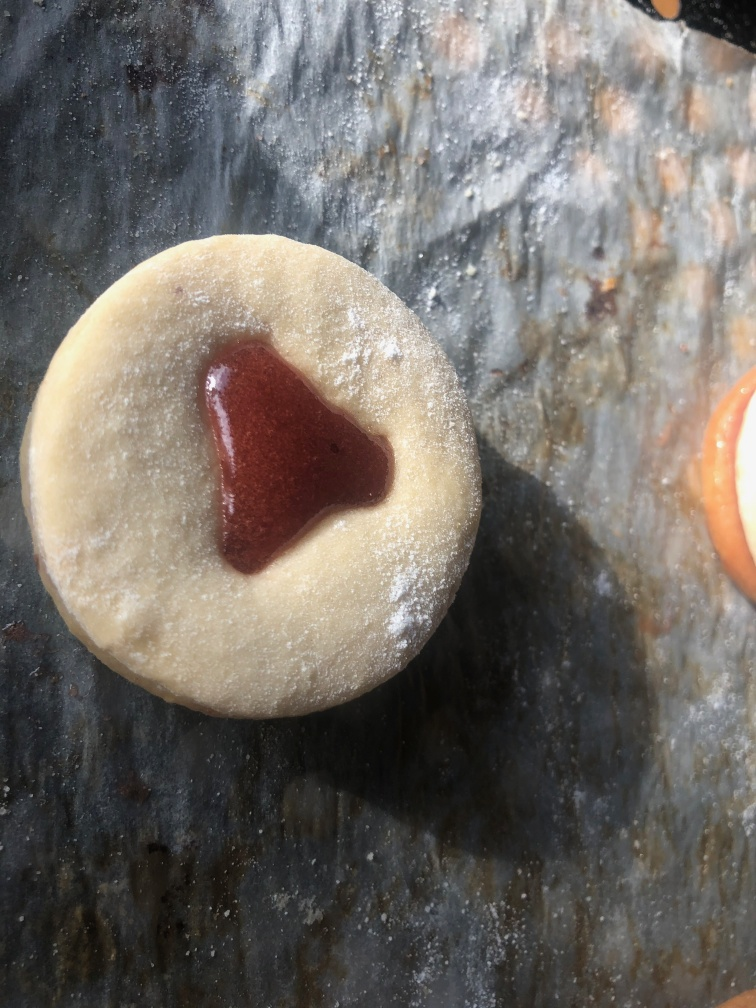christmas shortbread with jam: (12, 224, 479, 728)
